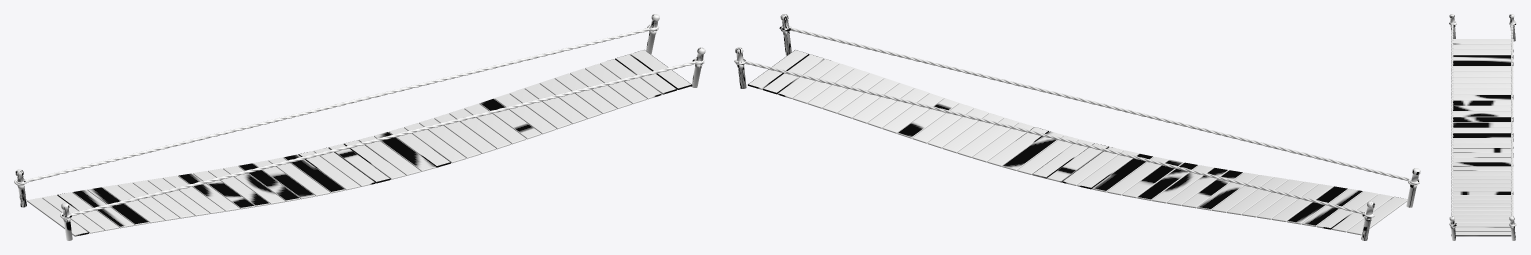
The model's file is Wooden Bridge.fbx.
3 renders of one model, left to right at view 1: azimuth 30°, elevation 25°; view 2: azimuth 150°, elevation 25°; view 3: azimuth 270°, elevation 25°, orthographic. The views are drawn at different scales.
Visible parts, largest first — view 1: Circle.011; view 2: Circle.011; view 3: Circle.011.
Boxes of the visible parts, x1,y1,x2,y2 form: Circle.011: (14, 14, 705, 240); Circle.011: (734, 14, 1420, 240); Circle.011: (1449, 14, 1516, 240).
Size of the model in its own units: 647 by 383 by 4655.
